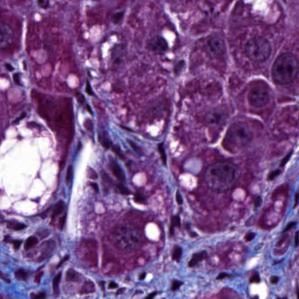ballooning: (4, 112, 61, 224)
